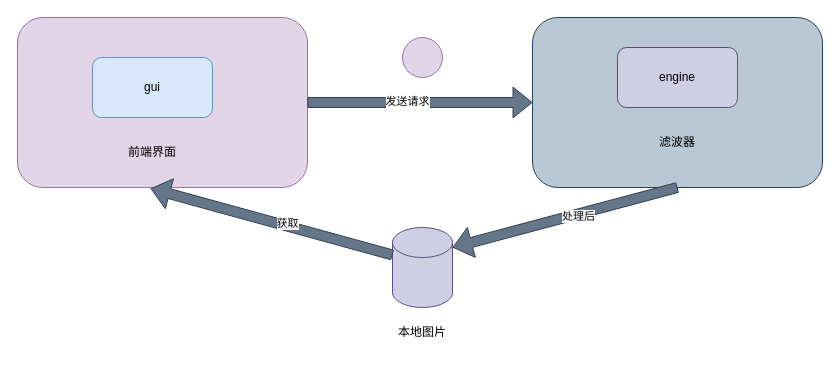
The diagram is 840 pixels wide and 365 high, and some of its shapes have lost their labels. The shapes that lost their labels are listed below. From the top down, each one's centre as x and y in pixels, then its label:
At point (422, 57): "linker".
At point (422, 267): "images".
